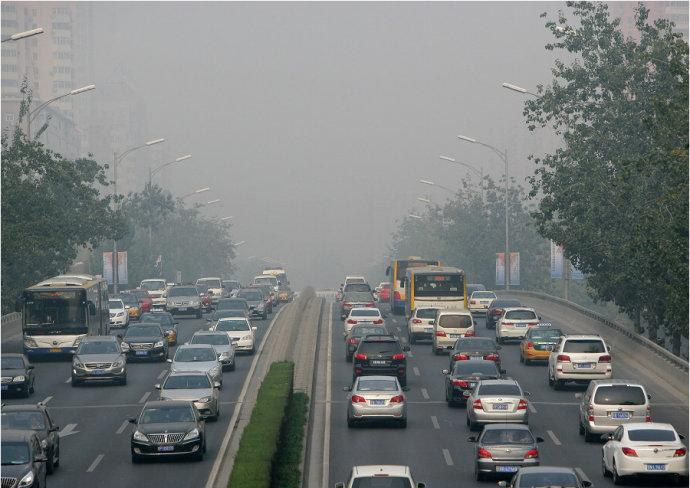bus: (15, 273, 110, 362), (400, 266, 467, 328), (385, 255, 445, 315), (260, 269, 290, 304), (138, 279, 169, 309), (194, 277, 227, 304)
car: (601, 421, 689, 486), (128, 398, 208, 463), (575, 379, 653, 444), (466, 422, 544, 483), (2, 401, 61, 476), (547, 334, 612, 392), (462, 378, 530, 432), (342, 376, 409, 429), (441, 357, 507, 409), (155, 371, 222, 422), (352, 333, 411, 385), (70, 336, 129, 386), (1, 429, 49, 488), (428, 308, 478, 355), (166, 343, 222, 384), (333, 465, 431, 488), (517, 321, 567, 366), (496, 465, 593, 488), (184, 330, 237, 372), (446, 337, 504, 374), (116, 323, 169, 362), (208, 316, 258, 355), (342, 323, 390, 363), (492, 306, 542, 343), (136, 308, 179, 347), (1, 353, 35, 400), (408, 307, 449, 343), (162, 285, 205, 319), (341, 307, 388, 337), (484, 298, 524, 330), (205, 309, 250, 336), (234, 287, 268, 321), (336, 291, 378, 317), (211, 298, 255, 321), (252, 274, 282, 307), (100, 298, 130, 329), (466, 289, 499, 317), (113, 289, 143, 318), (245, 286, 274, 315), (125, 287, 155, 313), (339, 282, 372, 304), (343, 276, 366, 296)
